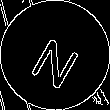N_NE: (25, 23, 85, 87)
